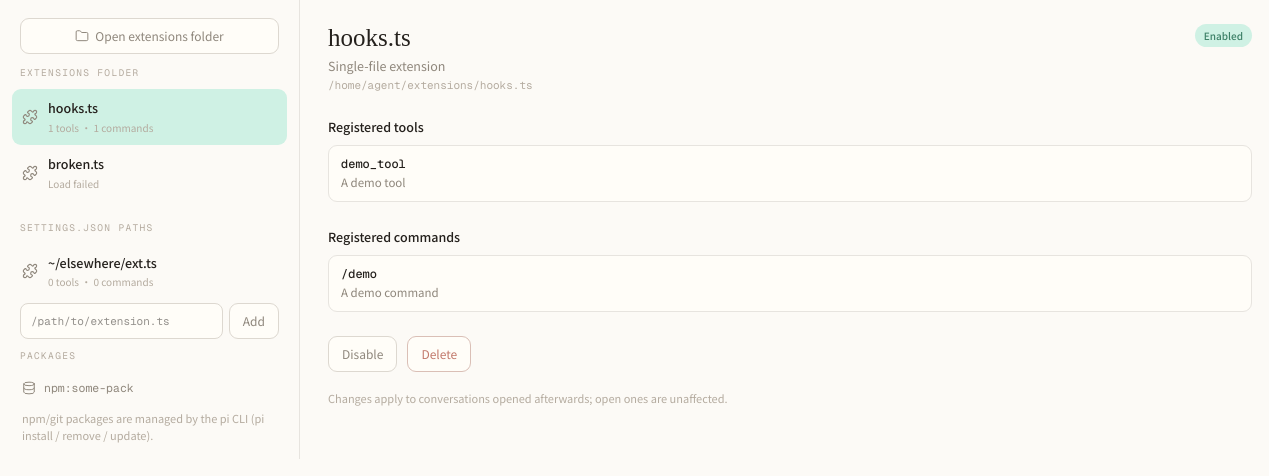
ExtensionsPanel › surfaces load errors for broken extensions
Click the text "broken.ts" at (76, 163), box [48, 154, 104, 173]
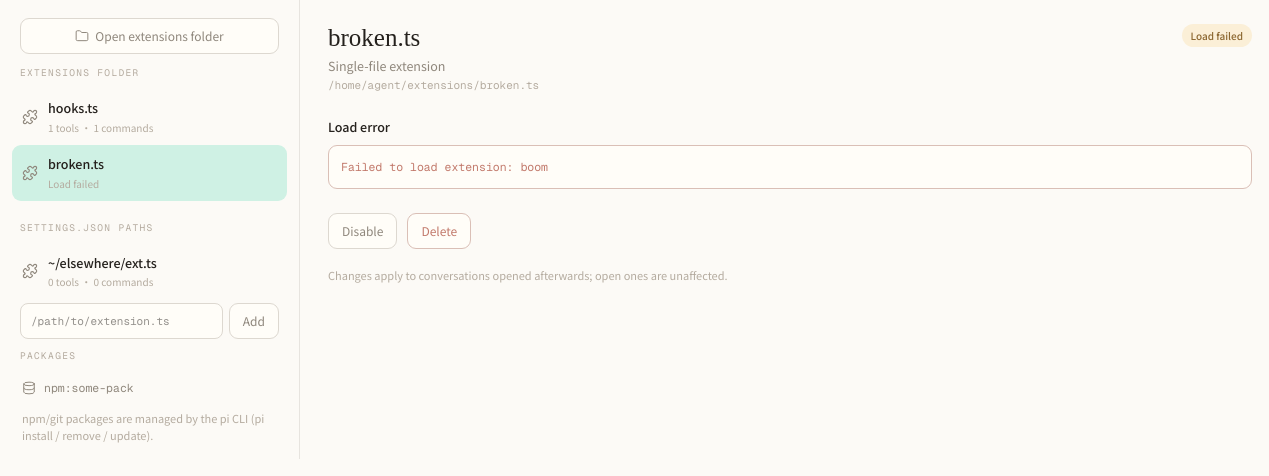
Expected: the 2nd text "Load failed" is shown, [48, 176, 99, 190]
Expected: the text "Failed to load extension: boom" is shown, [328, 144, 1252, 189]
